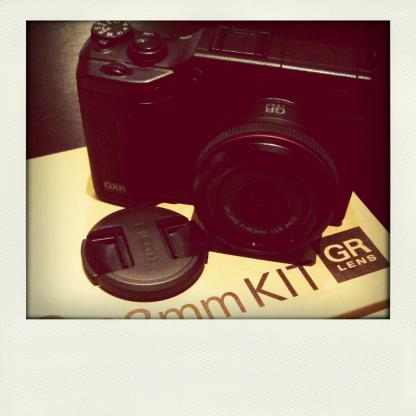Camera: (75, 20, 386, 270)
